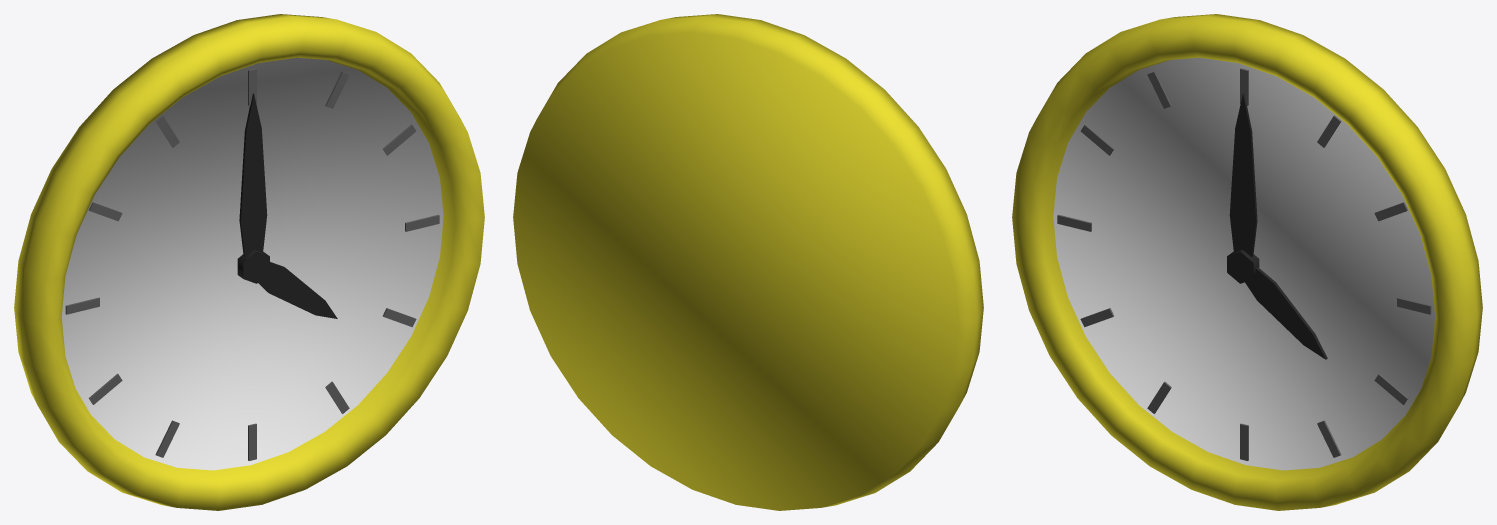
Rendered from zegar.fbx.
The picture shows the model from 3 angles, left to right: view 1: azimuth 30°, elevation 25°; view 2: azimuth 150°, elevation 25°; view 3: azimuth 330°, elevation 25°; orthographic projection.
Parts seen in each view (by area): view 1: Circle, Plane, Circle.001, Circle.002; view 2: Circle; view 3: Circle, Plane, Circle.001, Circle.002.
Boxes of the visible parts, box(x1,y1,x2,y2) form: Circle: box(14, 14, 484, 510); Plane: box(65, 68, 439, 460); Circle.001: box(239, 93, 267, 256); Circle.002: box(258, 262, 337, 318); Circle: box(513, 14, 983, 510); Circle: box(1012, 14, 1482, 510); Plane: box(1057, 68, 1431, 460); Circle.001: box(1229, 93, 1257, 256); Circle.002: box(1245, 267, 1327, 359).
Bounding box in the file's own units: 4.11 × 4.11 × 0.3919.
